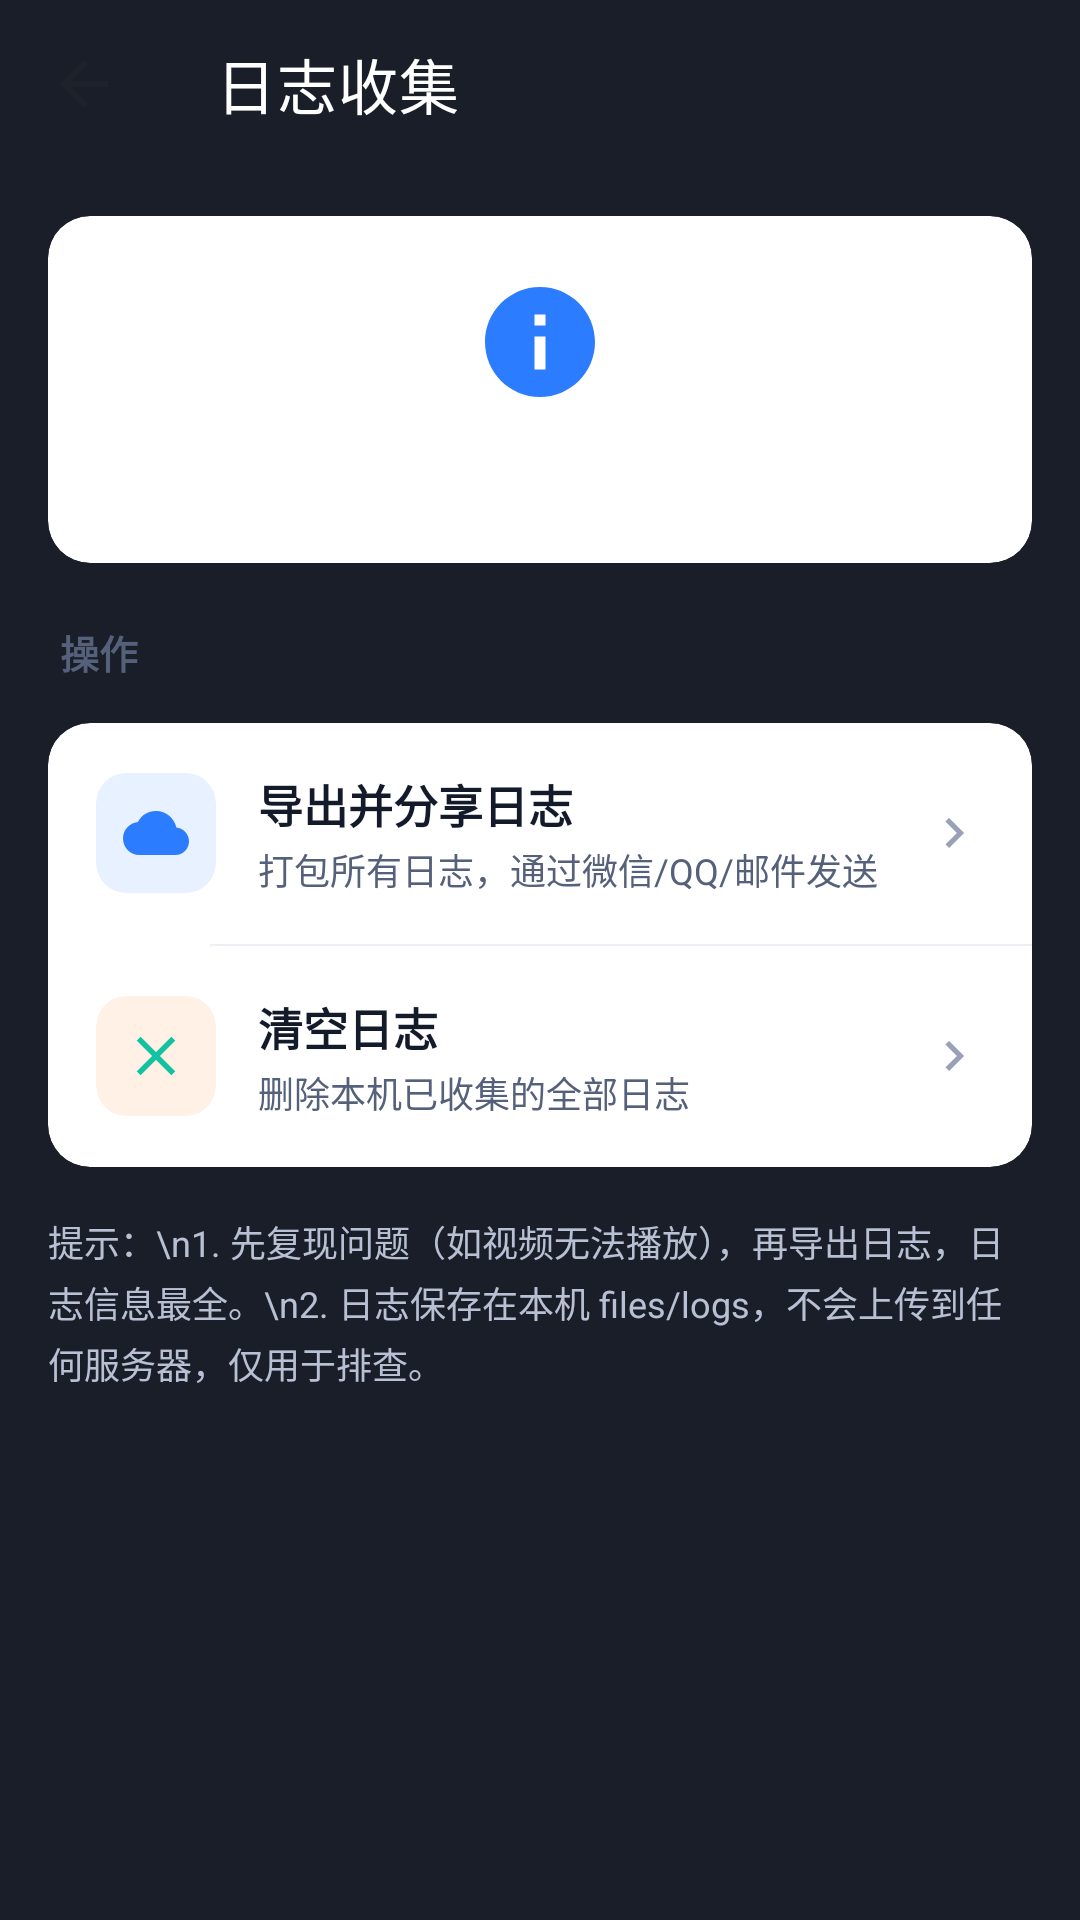

Named icons in this screenshot (1080 × 1920) and their bounding boxes, (x1, y1, x2, y2):
chevron right: (945, 818, 964, 848), (945, 1041, 964, 1071)
close: (96, 996, 216, 1116)
cloud: (123, 811, 189, 855)
info: (485, 287, 595, 397)
